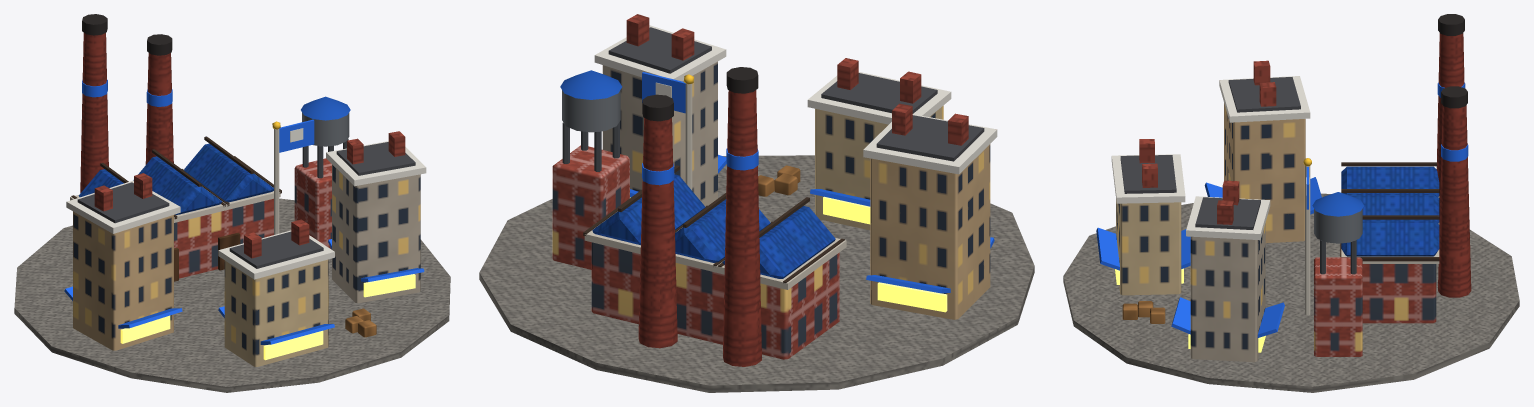
The model's file is city_dl5_blue.glb.
3 renders of one model, left to right at view 1: azimuth 30°, elevation 25°; view 2: azimuth 150°, elevation 25°; view 3: azimuth 270°, elevation 25°, orthographic. The views are drawn at different scales.
Parts seen in each view (by area): view 1: city_dl5_blue; view 2: city_dl5_blue; view 3: city_dl5_blue.
Part boxes in pixels (x1=…): city_dl5_blue: x1=14, y1=14, x2=450, y2=392; city_dl5_blue: x1=479, y1=14, x2=1034, y2=392; city_dl5_blue: x1=1063, y1=14, x2=1519, y2=392.
Bounding box in the file's own units: 1.52 × 0.88 × 1.49.
2 materials, 1 textured.
